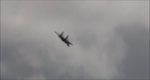maybay_muctieu: (54, 29, 73, 47)
